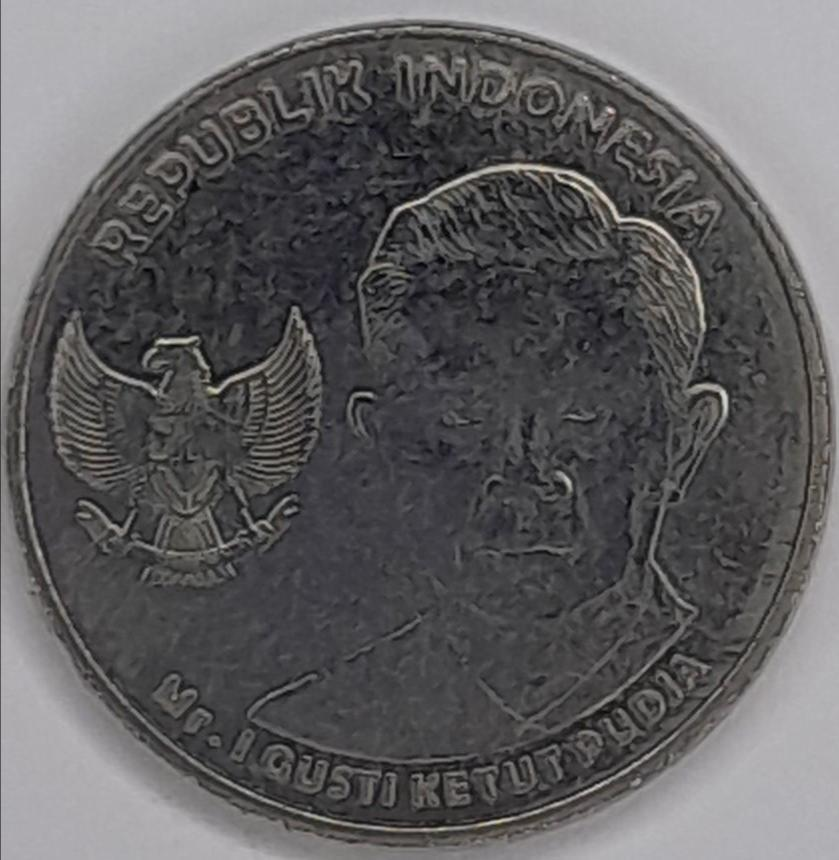coin_1000_e2016: (14, 17, 828, 860)
